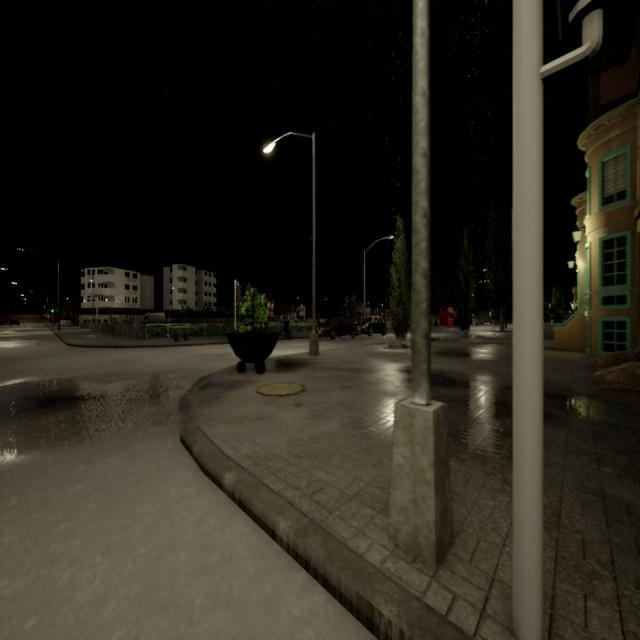Traffic_Signs: (46, 314, 50, 319)
Vehicle: (318, 316, 355, 339), (355, 316, 387, 337), (142, 312, 166, 322), (8, 318, 20, 326)
traffic_light: (236, 286, 241, 302), (51, 306, 54, 314)
